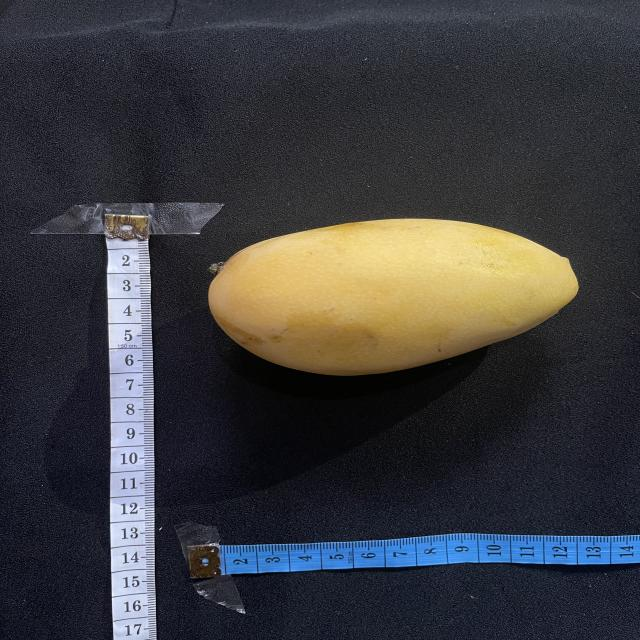Ripe: (208, 219, 578, 376), (382, 279, 384, 283)
